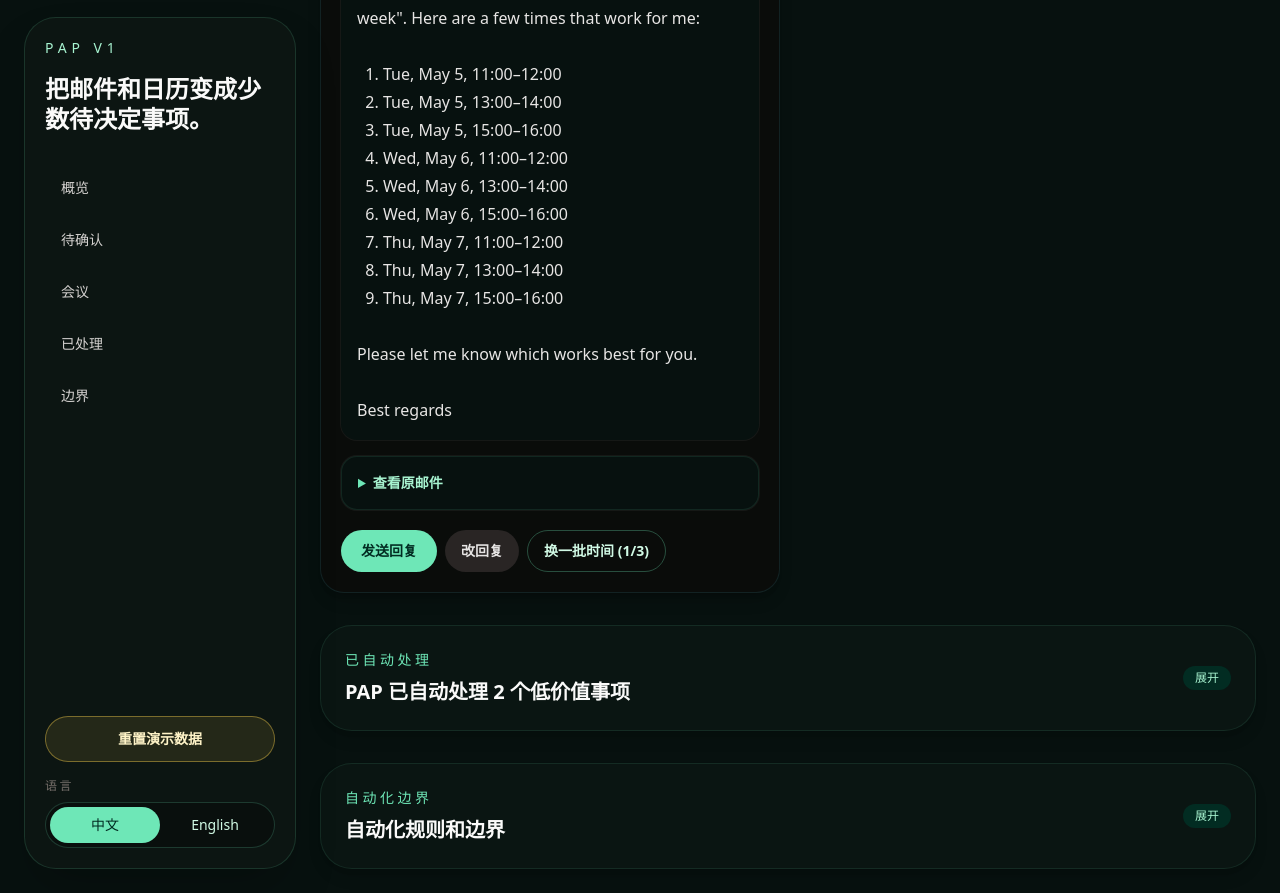
it: PAP dashboard › shows meeting card with real participant info and send action
The image size is (1280, 893).
(page scrolled)
Expected: the button "换一批时间 (1/3)" is shown, 527,530 -> 666,572
Click the button "发送回复" at (389, 551), box 341,530 -> 437,572
(page scrolled)
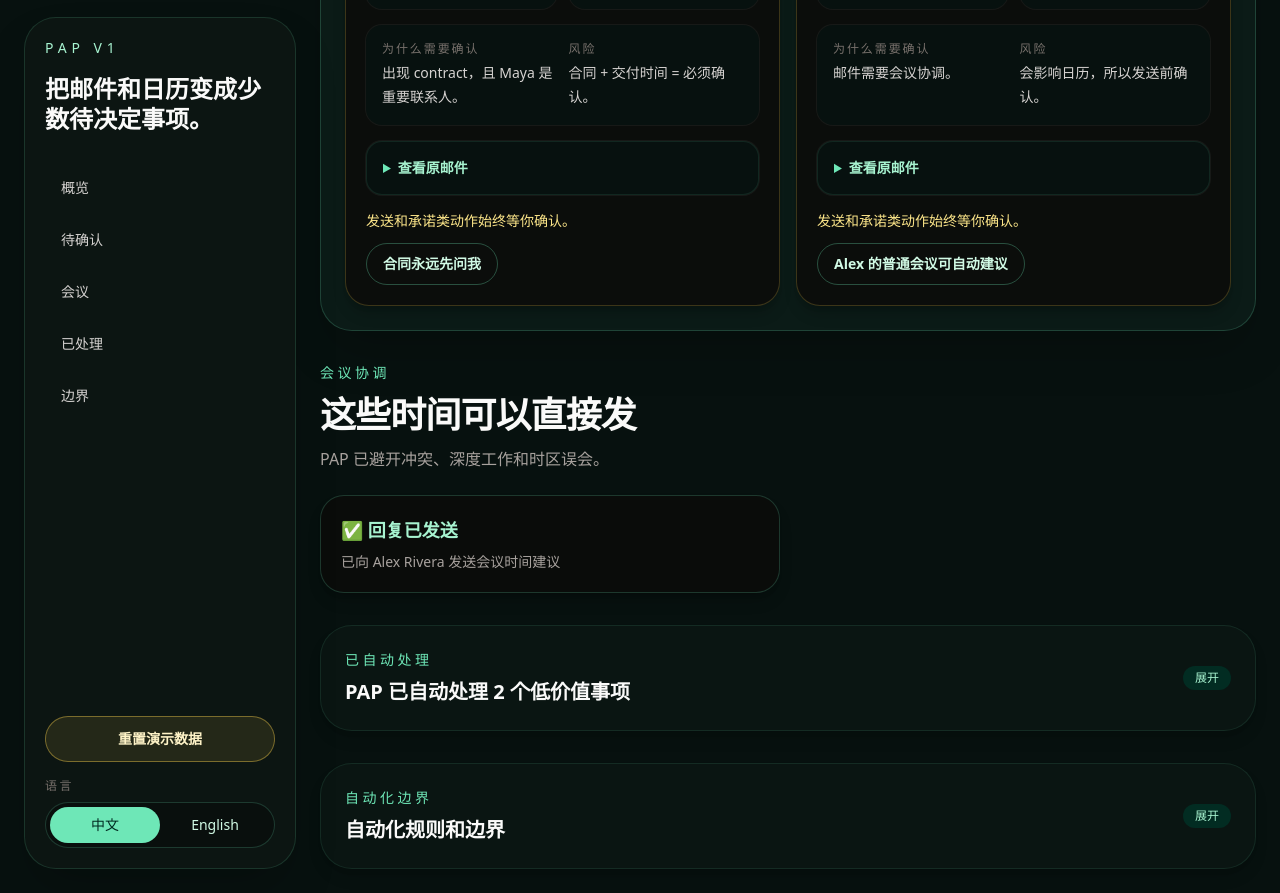
Expected: the text "✅ 回复已发送" is shown, 341,518 -> 458,542
